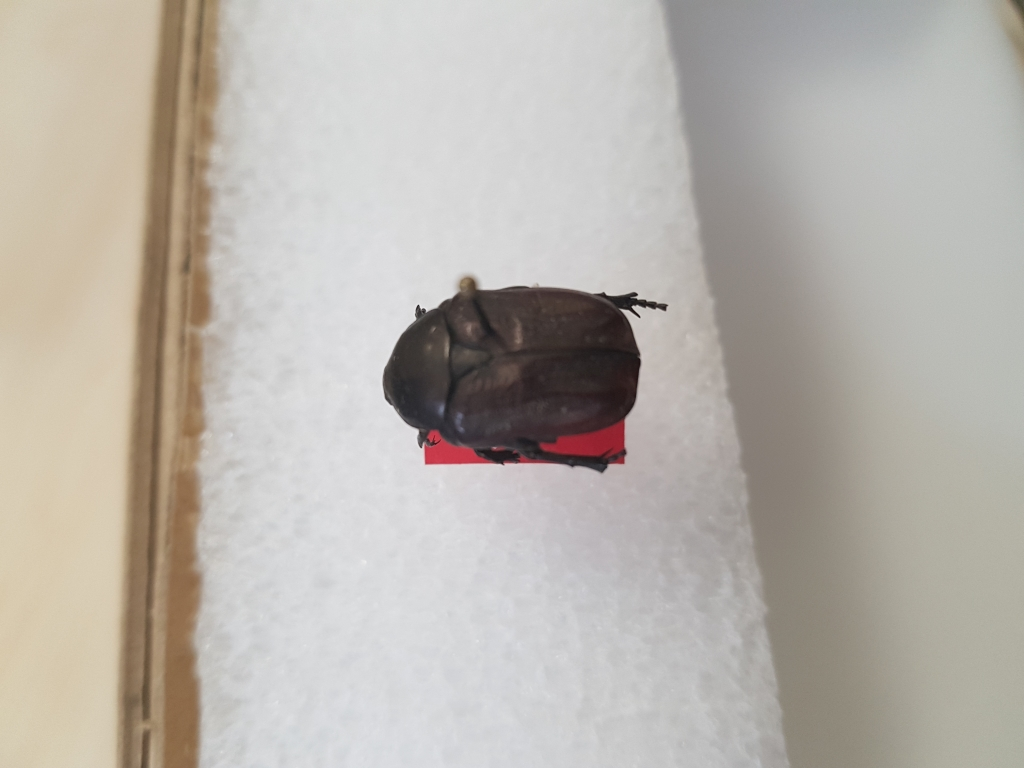Protaetia_asiatica: (382, 259, 673, 477)
